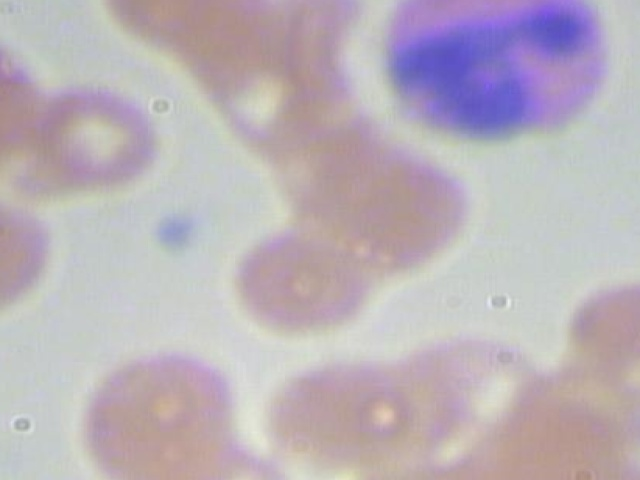Platelets: (146, 203, 208, 261)
WBC: (363, 0, 637, 153)
